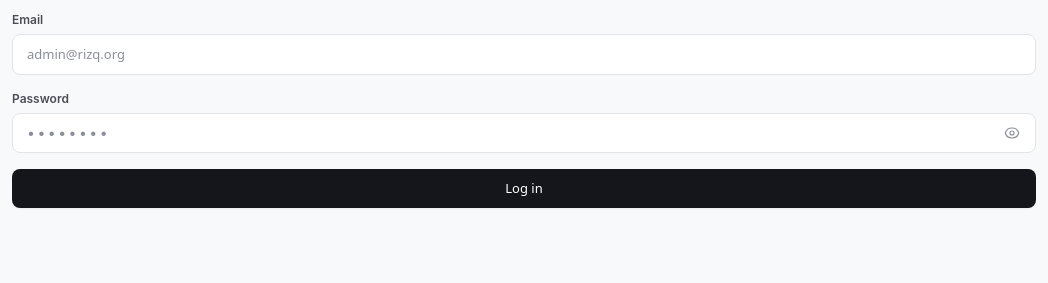
LoginForm › submits credentials and shows an error on failure
Type "staff@example.com" into the field labelled "Email" at {"x": 524, "y": 54}, box [12,34,1036,75]
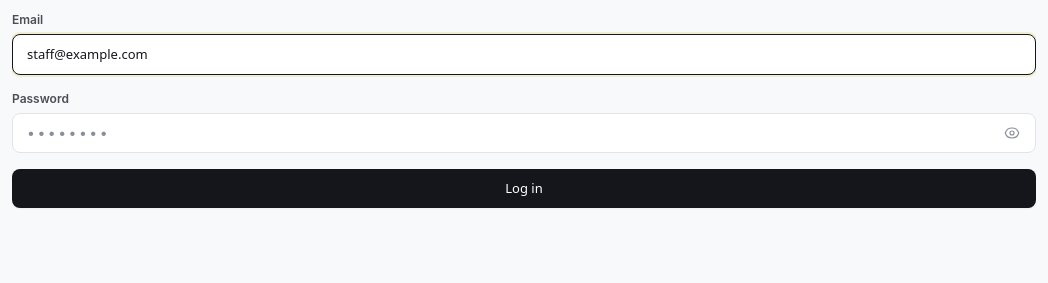
Type "wrong-password" into the password field labelled "Password" at {"x": 524, "y": 133}, box [12,113,1036,153]
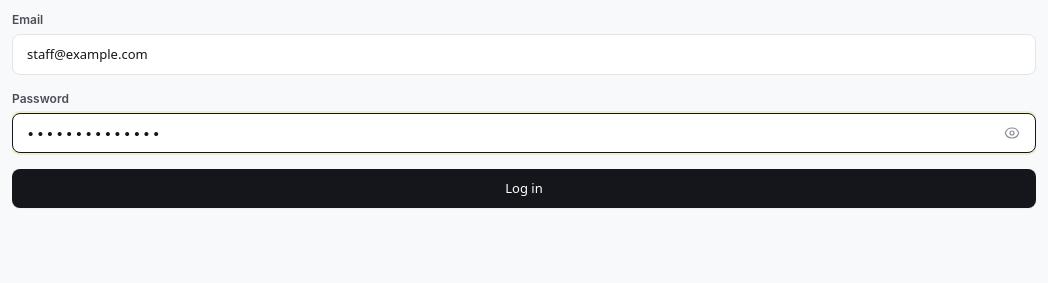
Click the button "Log in" at {"x": 524, "y": 188}, box [12,169,1036,208]
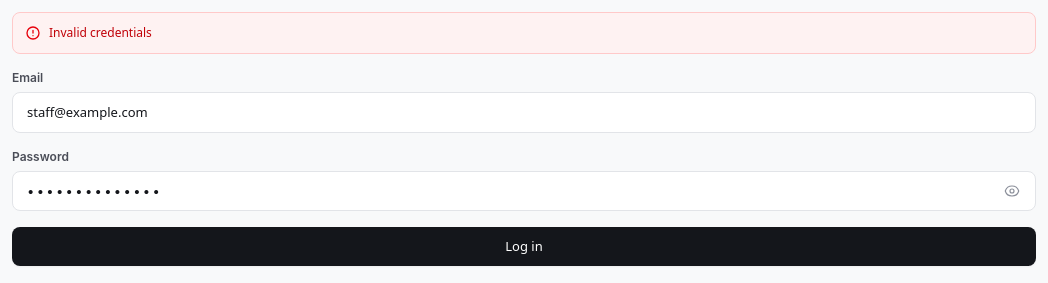
Expected: the text "Invalid credentials" is shown, [49,25,152,41]
